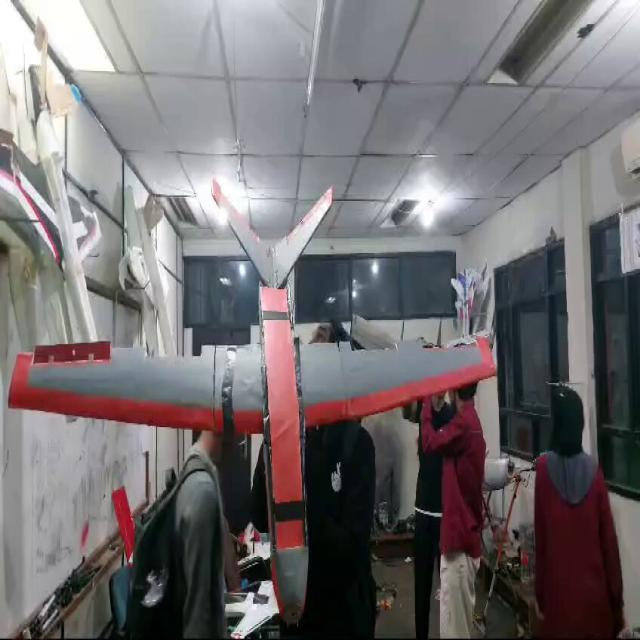plane: (8, 174, 498, 628)
